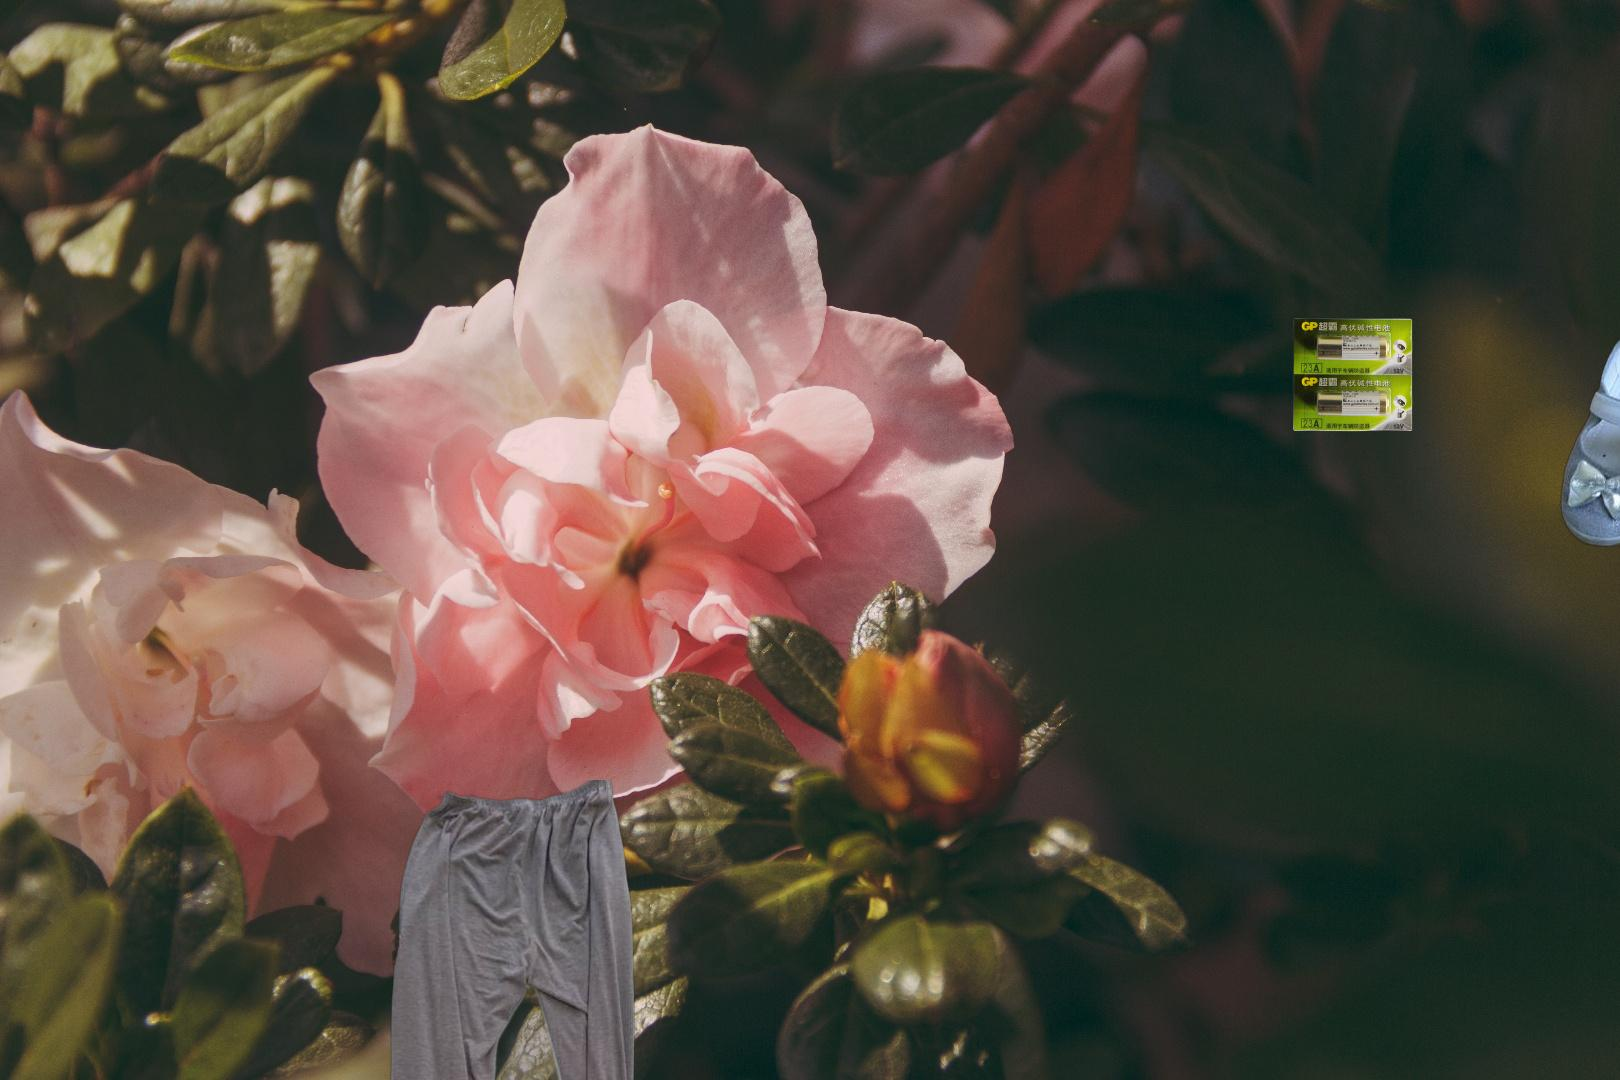battery: (1290, 315, 1415, 434)
clothes: (353, 780, 673, 1080)
shoes: (1557, 311, 1620, 565)
